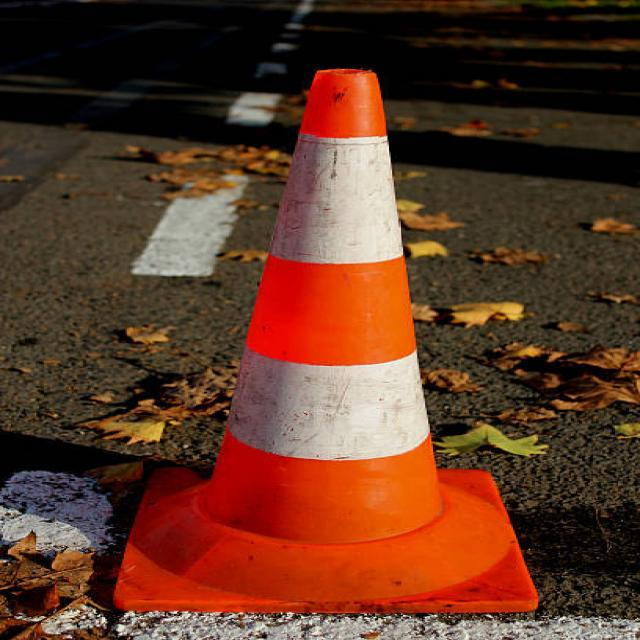Traffic Cone: (76, 52, 583, 640)
